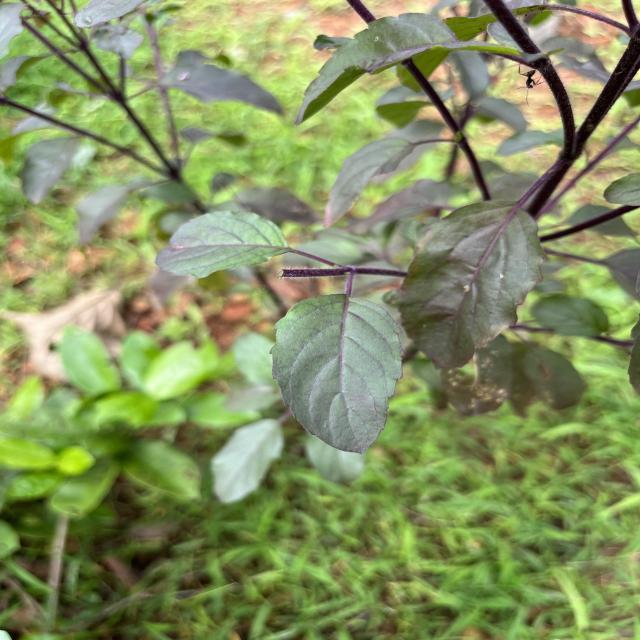Ocimum tenuiflorum: (260, 287, 410, 458)
